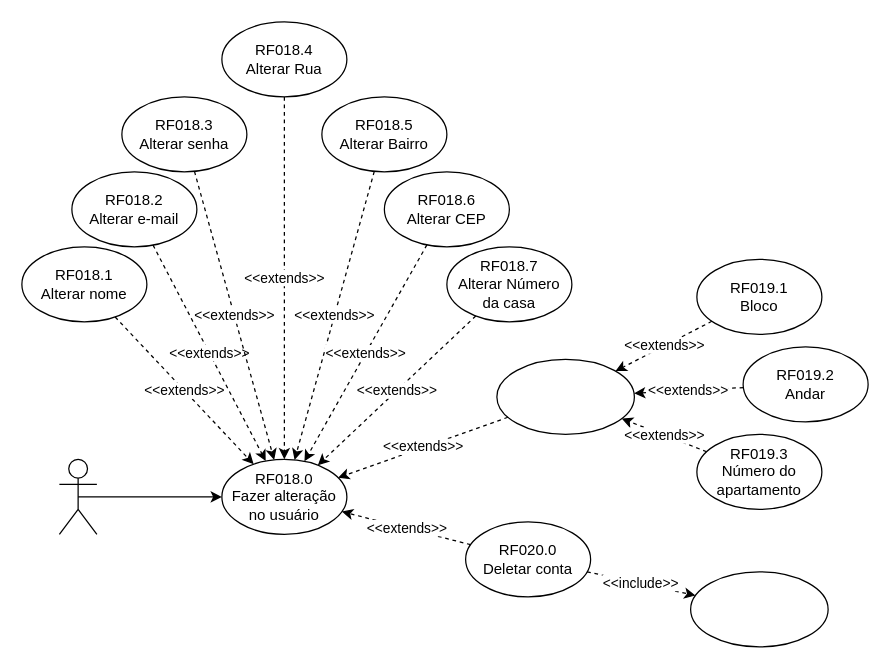
Some shapes in this 890 by 669 pixel diagram are drawn without their labels. The shapes that lost their labels are listed below. From the top down, each one's centre as x and y in pixels, then its label:
At [565,396]: "RF019.0 Alterar Complemento".
At [77,496]: "Cliente".
At [758,609]: "RF020.1 Informe sua senha 2 vezes".
